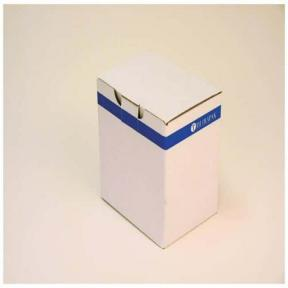box: (98, 48, 222, 250)
